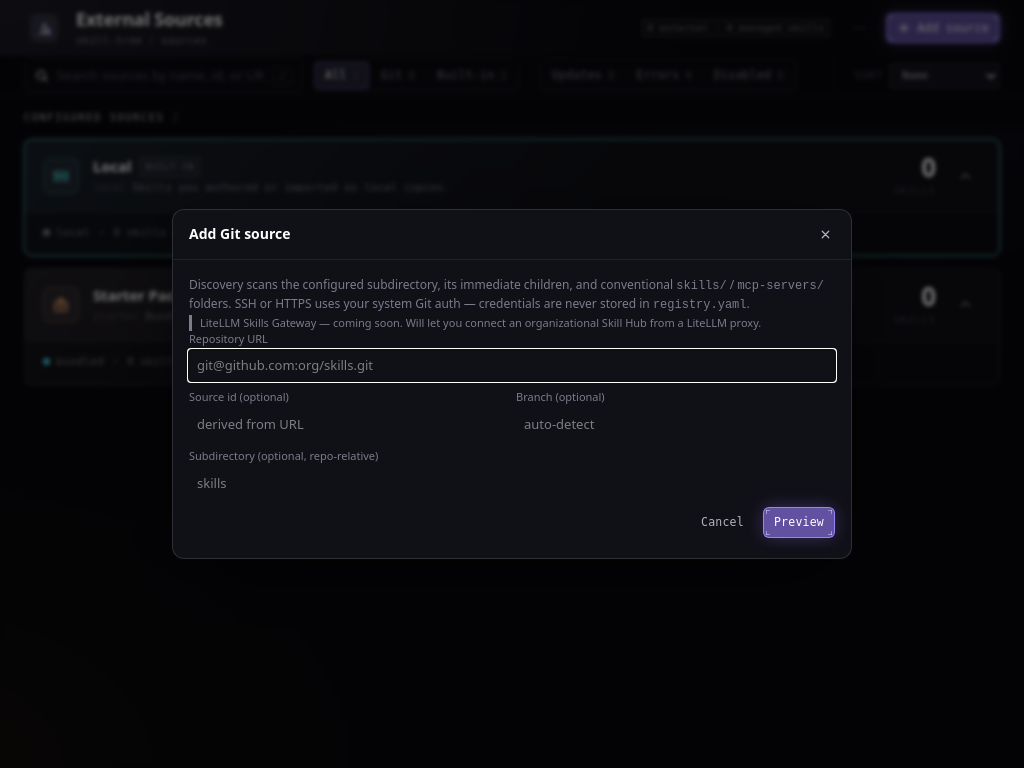
Scenario: Sources — per-conflict resolution › switches from entry to preview instead of stacking both steps
Type "git@github.com:org/pack.git" into the field with placeholder "git@github.com:org/skills.git" at coordinates (512, 366), box 189,350 -> 835,381
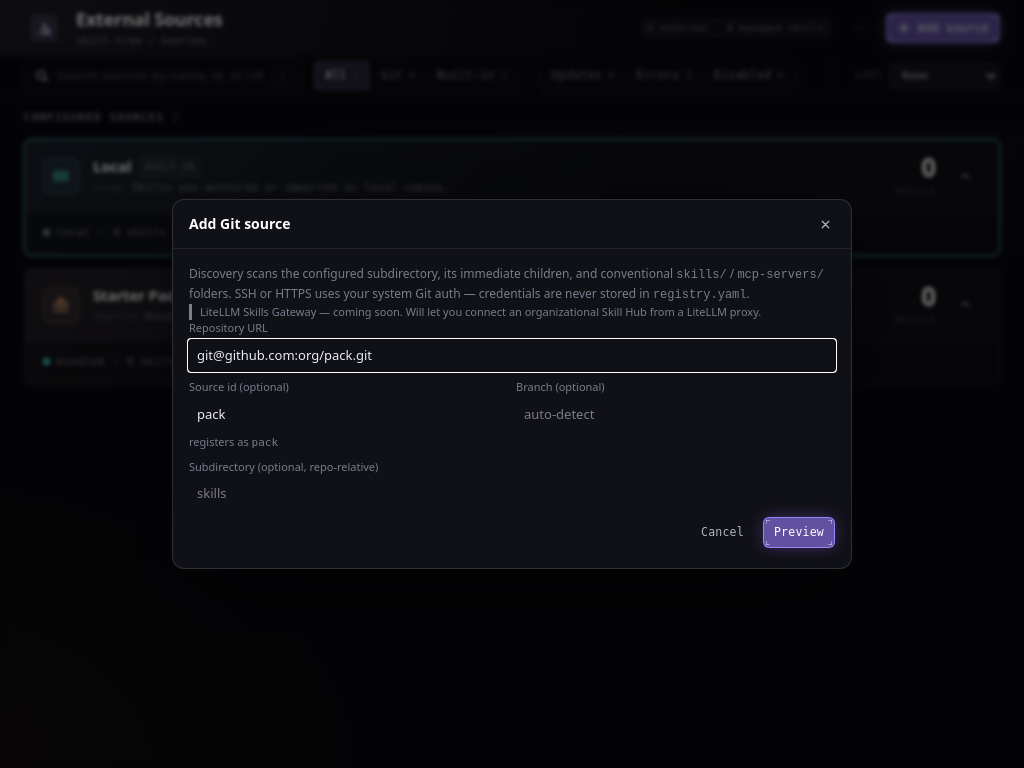
Click the button "Preview" at coordinates (799, 533), box 763,517 -> 835,548
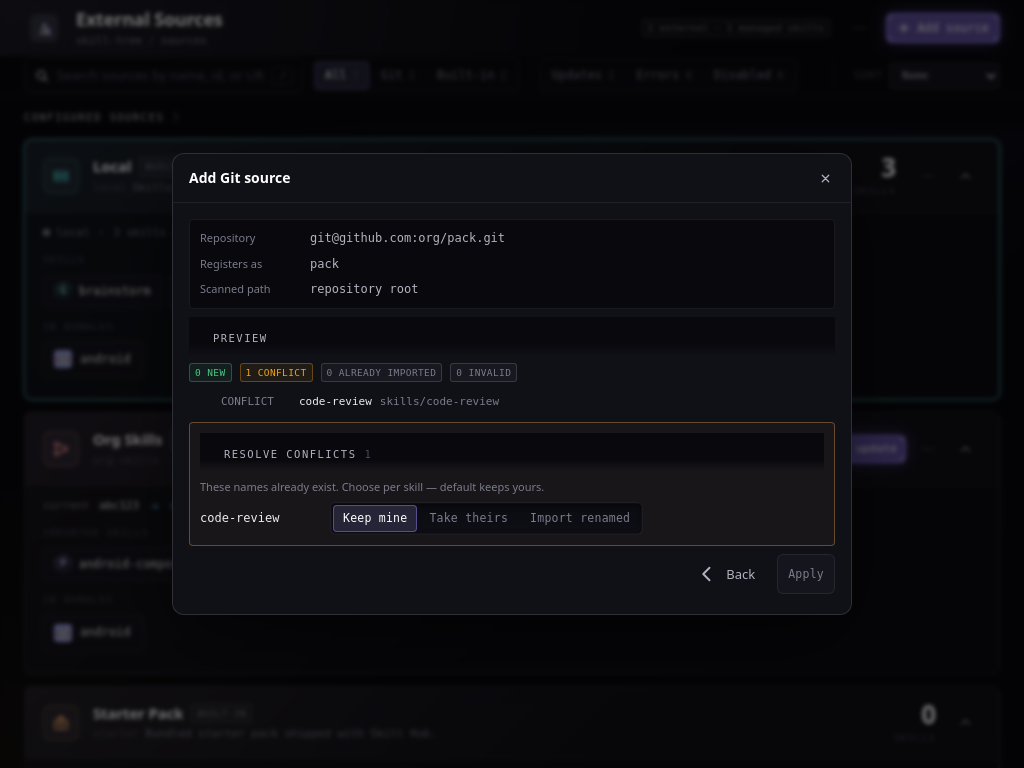
Check: the number of dialogs is 1, box 172,153 -> 852,615
Check: the element with test id "conflict-code-review" is shown, box 200,502 -> 643,535
Check: the button "Back" is shown, box 683,554 -> 769,594
